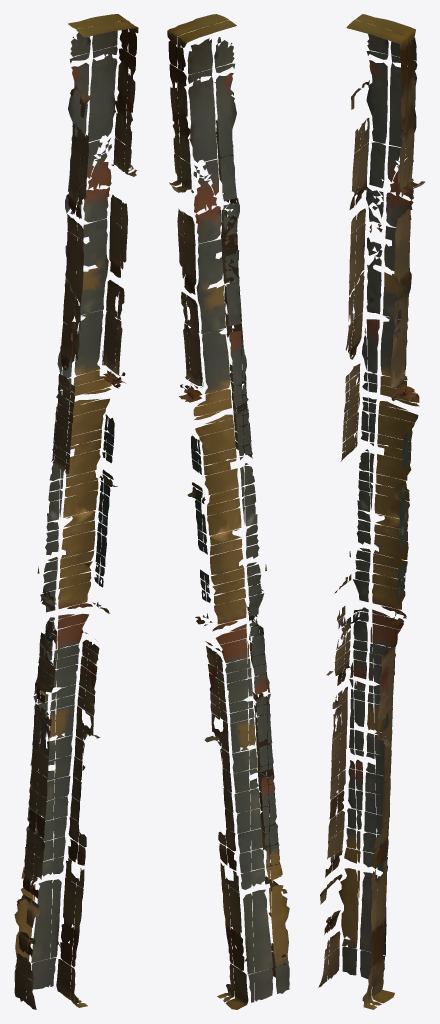
File: hallway3.obj
3 views of the same model, side by side, from view 1: azimuth 30°, elevation 25°; view 2: azimuth 210°, elevation 25°; view 3: azimuth 330°, elevation 25° (orthographic).
Bounding box in the file's own units: 4.98 × 46.61 × 3.08.
